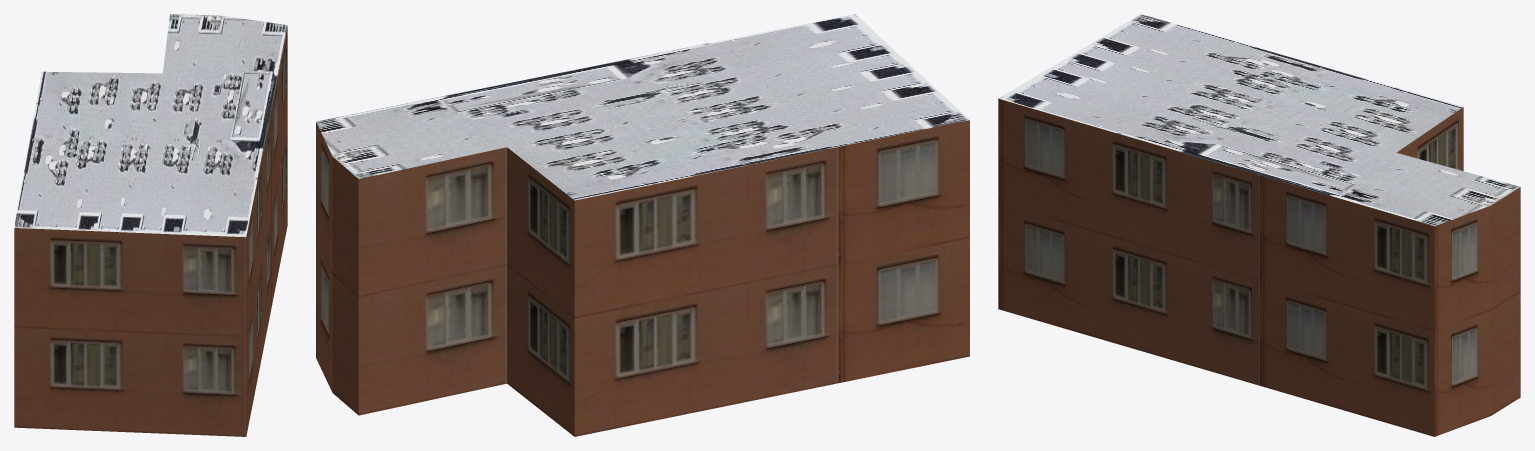
Rendered from ResTex__3878.fbx.
The picture shows the model from 3 angles, left to right: view 1: azimuth 30°, elevation 25°; view 2: azimuth 150°, elevation 25°; view 3: azimuth 270°, elevation 25°; orthographic projection. The views are drawn at different scales.
Parts seen in each view (by area): view 1: CityEngineMaterial_20_m, CityEngineMaterial_m; view 2: CityEngineMaterial_20_m, CityEngineMaterial_m; view 3: CityEngineMaterial_20_m, CityEngineMaterial_m.
Part boxes in pixels (bbox=[...]): CityEngineMaterial_20_m: bbox=[14, 27, 287, 436]; CityEngineMaterial_m: bbox=[14, 14, 287, 237]; CityEngineMaterial_20_m: bbox=[316, 120, 969, 436]; CityEngineMaterial_m: bbox=[316, 14, 969, 200]; CityEngineMaterial_20_m: bbox=[998, 98, 1520, 436]; CityEngineMaterial_m: bbox=[999, 14, 1520, 226].
Size of the model in its own units: 12.98 by 6 by 13.49.
Materials: 2 (2 with a texture image).
